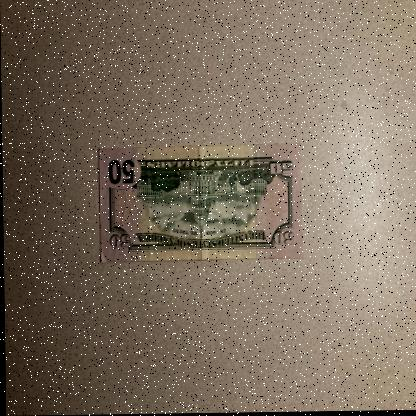fifty-back: (98, 144, 303, 264)
